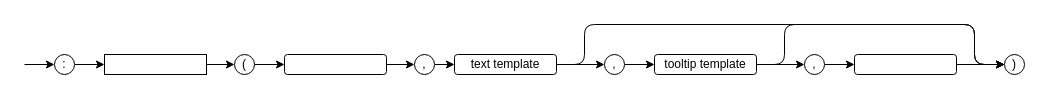
Some shapes in this 1042 by 92 pixel diagram are drawn without their labels. Here are the shapes that lost their labels. From the top down, the box of each, then its label:
(104, 54, 206, 74): link
(284, 54, 386, 74): href template
(854, 54, 956, 74): style template
